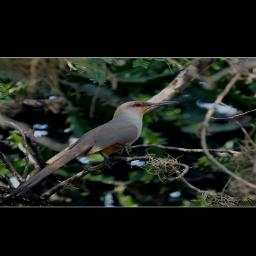Cuckoo: (4, 99, 180, 200)
